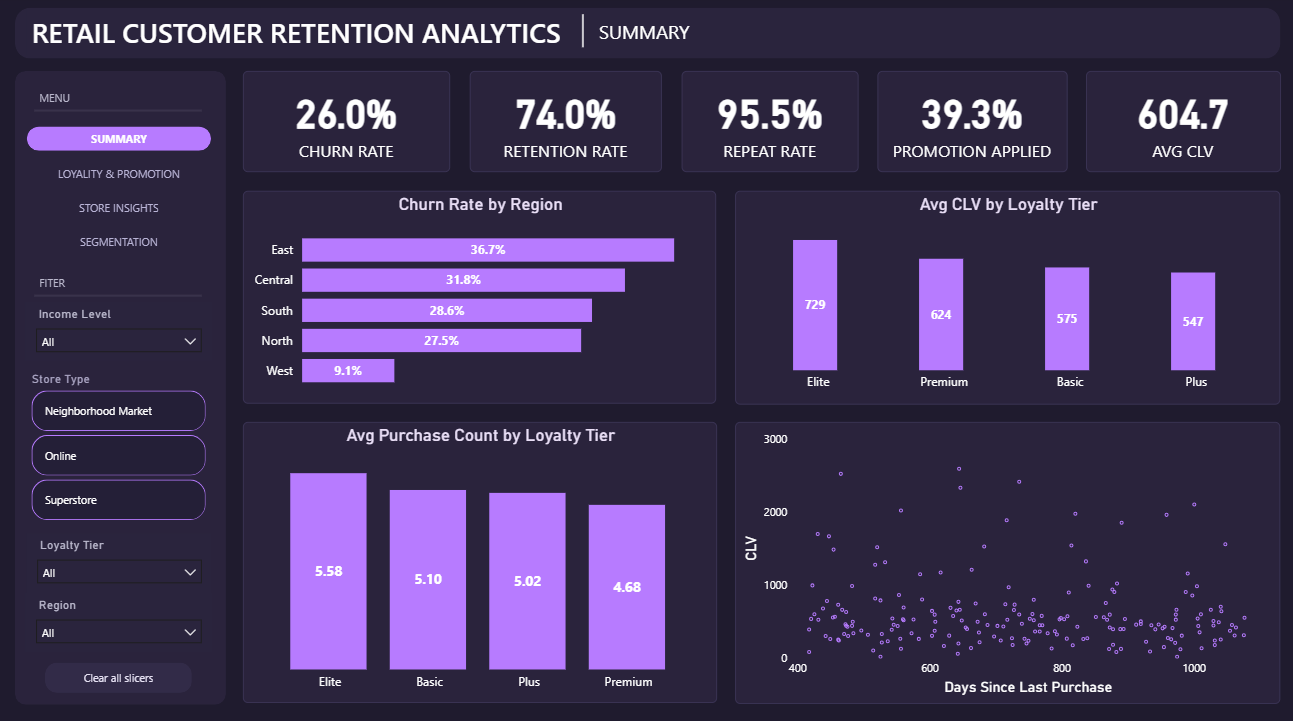

The dashboard page shown, as its layout file describes it:
{"tool":"powerbi","page":{"name":"SUMMARY","canvas":[1280,720],"ordinal":0},"visuals":[{"type":"card","title":"CHURN RATE","fields":{"Values":["All_Measures.Churn Rate"]},"box":[240.3,73.7,205,100.4],"z":0},{"type":"card","fields":{"Values":["Avg(Customer_Demographics.CLV)"]},"box":[1072.1,73.7,192.2,100.4],"z":1000},{"type":"card","fields":{"Values":["All_Measures (DAX).Customer Repeat Rate (%)"]},"box":[672.7,73.7,175.1,100.4],"z":2000},{"type":"card","fields":{"Values":["All_Measures (DAX).Customer Retention Rate (%)"]},"box":[463.4,73.7,190.1,100.4],"z":3000},{"type":"shape","box":[14.9,73.7,208.2,625.8],"z":4000},{"type":"advancedSlicerVisual","fields":{"Values":["Store_Locations.Store_Type"]},"box":[26.7,370.5,182.6,152.7],"z":5000},{"type":"slicer","fields":{"Values":["Customer_Demographics.Region"]},"box":[25.6,589.5,183.7,57.7],"z":6000},{"type":"slicer","fields":{"Values":["Loyalty_Program.Loyalty_Tier"]},"box":[26.7,530.7,182.6,58.7],"z":7000},{"type":"slicer","fields":{"Values":["Customer_Demographics.Income_Level"]},"box":[25.6,302.2,183.7,57.7],"z":8000},{"type":"actionButton","box":[44.8,657.8,145.2,29.9],"z":9000},{"type":"pageNavigator","box":[26.7,129.2,182.6,126],"z":10000},{"type":"shape","box":[34.2,289.4,165.5,12.8],"z":11000},{"type":"shape","box":[34.2,106.8,165.5,12.8],"z":12000},{"type":"textbox","box":[34.2,85.4,50.2,27.8],"z":13000},{"type":"textbox","box":[34.2,268,38.4,27.8],"z":14000},{"type":"shape","box":[14.9,11.7,1249.4,50.2],"z":15000},{"type":"shape","box":[569.1,18.2,12.2,32.8],"z":16000},{"type":"textbox","box":[26.8,12.2,542.3,46.2],"z":17000},{"type":"textbox","box":[586.1,17,107,37.7],"z":18000},{"type":"barChart","title":"Churn Rate by Region","fields":{"Category":["Customer_Demographics.Region"],"Y":["All_Measures (DAX).Customer Churn Rate (%)"],"Series":["Customer_Demographics.Region"]},"box":[240.3,192.2,467.7,210.4],"z":19000},{"type":"ribbonChart","title":"Avg CLV by Loyalty Tier ","fields":{"Category":["Loyalty_Program.Loyalty_Tier"],"Y":["Avg(Customer_Demographics.CLV)"],"Series":["Loyalty_Program.Loyalty_Tier"]},"box":[726.1,191.8,538.5,210.8],"z":20000},{"type":"columnChart","title":"Avg Purchase Count by Loyalty Tier ","fields":{"Category":["Loyalty_Program.Loyalty_Tier"],"Y":["Avg(Customer_Demographics.Purchase Count)"],"Series":["Loyalty_Program.Loyalty_Tier"]},"box":[239.8,420.9,467.9,278],"z":21000},{"type":"scatterChart","fields":{"Y":["Customer_Demographics.CLV"],"X":["Churn_Labelled_Customers.Days Since Last Purchase"]},"box":[726.1,420.5,538.5,278.2],"z":22000},{"type":"card","fields":{"Values":["All_Measures (DAX).% Transaction with Promotion Applied"]},"box":[866,73.7,187.9,100.4],"z":23000}]}

Visuals, with their boxes in screenshot pixels (x1, y1, x2, y2), scaled from the page's 1280x720 canvas onto the 1293x721 screenshot:
"CHURN RATE" card: 243 74 450 174
card - Avg(Customer_Demographics.CLV): 1083 74 1277 174
card - All_Measures (DAX).Customer Repeat Rate (%): 680 74 856 174
card - All_Measures (DAX).Customer Retention Rate (%): 468 74 660 174
shape: 15 74 225 700
advancedSlicerVisual - Store_Locations.Store_Type: 27 371 211 524
slicer - Customer_Demographics.Region: 26 590 211 648
slicer - Loyalty_Program.Loyalty_Tier: 27 531 211 590
slicer - Customer_Demographics.Income_Level: 26 303 211 360
actionButton: 45 659 192 689
pageNavigator: 27 129 211 256
shape: 35 290 202 303
shape: 35 107 202 120
textbox: 35 86 85 113
textbox: 35 268 73 296
shape: 15 12 1277 62
shape: 575 18 587 51
textbox: 27 12 575 58
textbox: 592 17 700 55
"Churn Rate by Region" barChart: 243 192 715 403
"Avg CLV by Loyalty Tier " ribbonChart: 733 192 1277 403
"Avg Purchase Count by Loyalty Tier " columnChart: 242 421 715 700
scatterChart - Customer_Demographics.CLV x Churn_Labelled_Customers.Days Since Last Purchase: 733 421 1277 700
card - All_Measures (DAX).% Transaction with Promotion Applied: 875 74 1065 174
